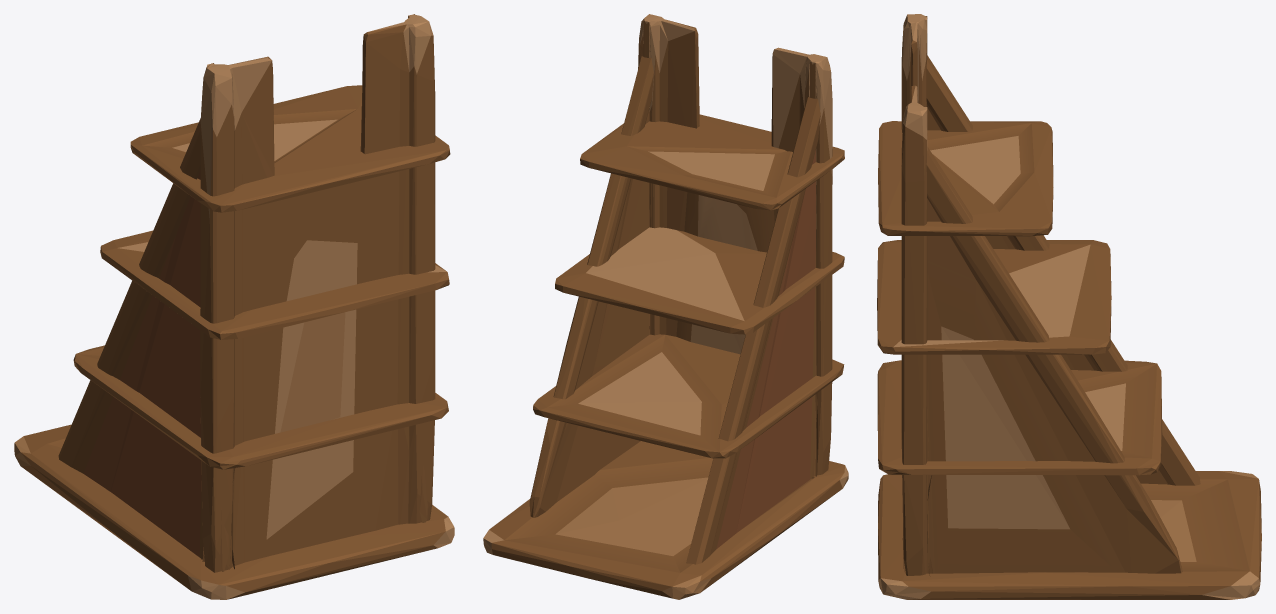
Rendered from LPSWP_Belfry04.fbx.
The picture shows the model from 3 angles, left to right: view 1: azimuth 30°, elevation 25°; view 2: azimuth 150°, elevation 25°; view 3: azimuth 270°, elevation 25°; orthographic projection. The views are drawn at different scales.
Parts seen in each view (by area): view 1: LPSWP_Belfry04; view 2: LPSWP_Belfry04; view 3: LPSWP_Belfry04.
Part boxes in pixels (left/top/right/bottom): LPSWP_Belfry04: left=14, top=14, right=454, bottom=599; LPSWP_Belfry04: left=483, top=14, right=848, bottom=599; LPSWP_Belfry04: left=877, top=14, right=1261, bottom=599.
Size of the model in its own units: 2.87 by 5.5 by 3.97.
